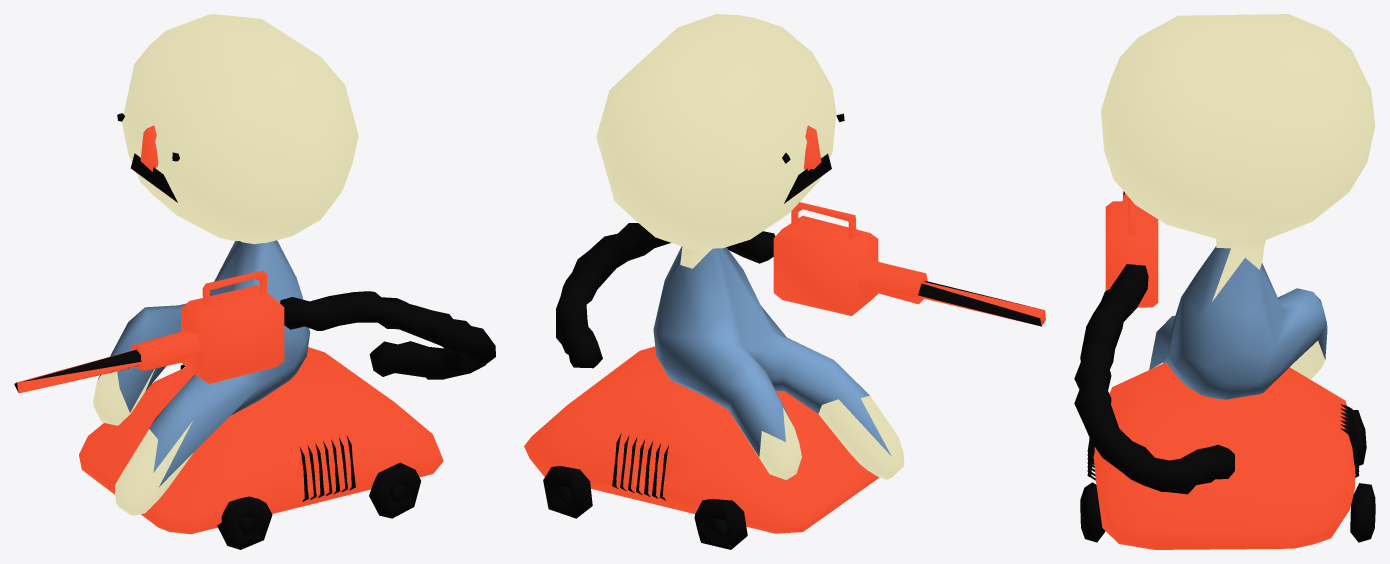
Rendered from Player-Old.fbx.
3 views of the same model, side by side, from view 1: azimuth 30°, elevation 25°; view 2: azimuth 150°, elevation 25°; view 3: azimuth 270°, elevation 25° (orthographic). The views are drawn at different scales.
Parts seen in each view (by area): view 1: Null_1; view 2: Null_1; view 3: Null_1.
Part boxes in pixels (left/top/right/bottom): Null_1: left=14, top=14, right=495, bottom=549; Null_1: left=524, top=14, right=1045, bottom=549; Null_1: left=1074, top=14, right=1375, bottom=549.
Bounding box in the file's own units: 751 × 695 × 400.
